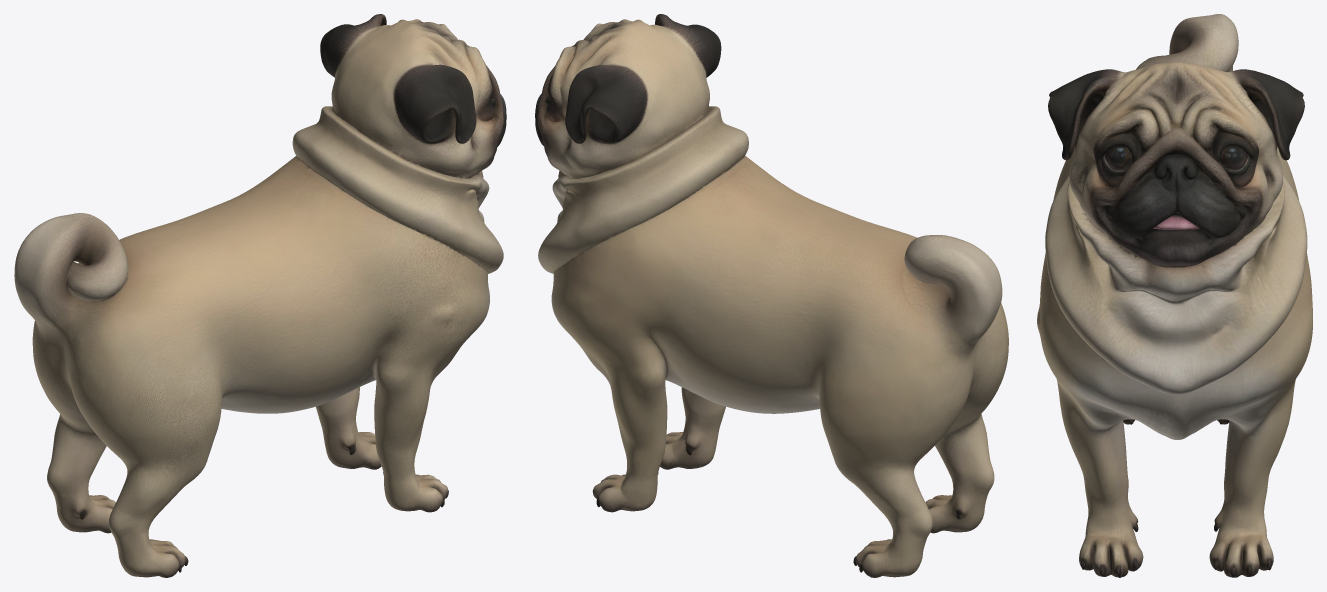
Rendered from Bonny.glb.
The picture shows the model from 3 angles, left to right: view 1: azimuth 30°, elevation 25°; view 2: azimuth 150°, elevation 25°; view 3: azimuth 270°, elevation 25°; orthographic projection. The views are drawn at different scales.
Visible parts, largest first — view 1: tripo_node_6f293449-77cc-4032-bb95-5c6c87fce1ac; view 2: tripo_node_6f293449-77cc-4032-bb95-5c6c87fce1ac; view 3: tripo_node_6f293449-77cc-4032-bb95-5c6c87fce1ac.
Part boxes in pixels (bbox=[...]): tripo_node_6f293449-77cc-4032-bb95-5c6c87fce1ac: bbox=[14, 14, 506, 577]; tripo_node_6f293449-77cc-4032-bb95-5c6c87fce1ac: bbox=[535, 14, 1008, 577]; tripo_node_6f293449-77cc-4032-bb95-5c6c87fce1ac: bbox=[1037, 14, 1312, 577].
Size of the model in its own units: 1 by 0.9361 by 0.4522.
1 material, 1 textured.
